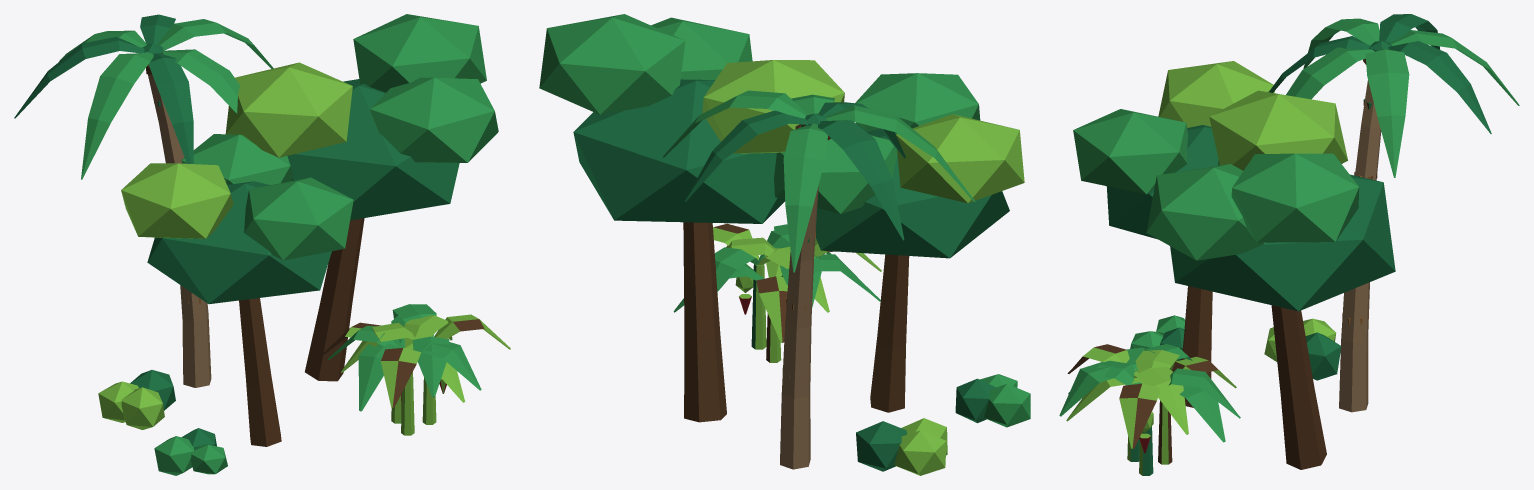
The model's file is Selva C.fbx.
3 views of the same model, side by side, from view 1: azimuth 30°, elevation 25°; view 2: azimuth 150°, elevation 25°; view 3: azimuth 270°, elevation 25° (orthographic). The views are drawn at different scales.
Visible parts, largest first — view 1: Selva C; view 2: Selva C; view 3: Selva C.
Part boxes in pixels (x1,y1,x2,y2): Selva C: (14,14,510,475); Selva C: (539,14,1030,475); Selva C: (1059,14,1519,475).
Bounding box in the file's own units: 2.54 × 2.14 × 2.46.
